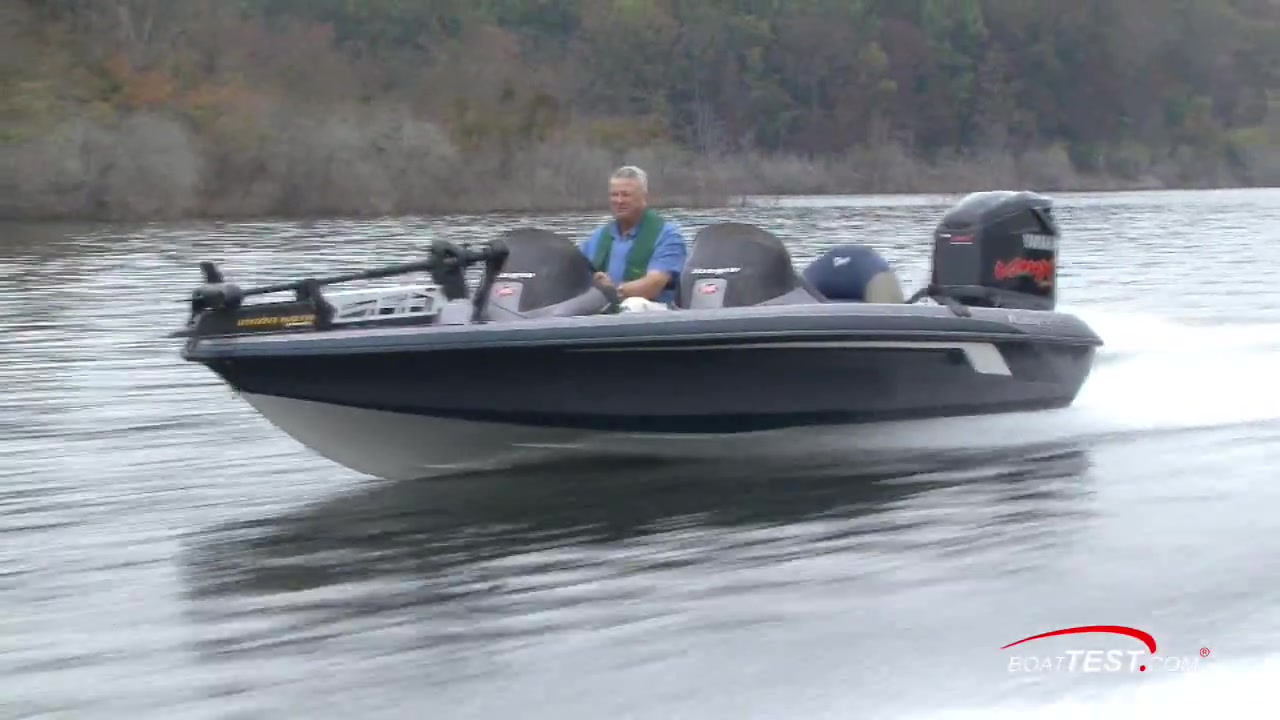boat: (171, 187, 1098, 490)
